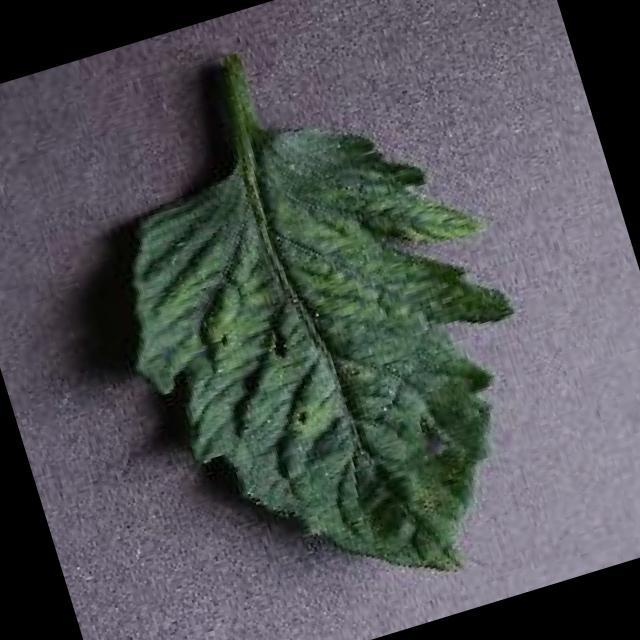Tomato mosaic virus leaf: (73, 72, 587, 640)
